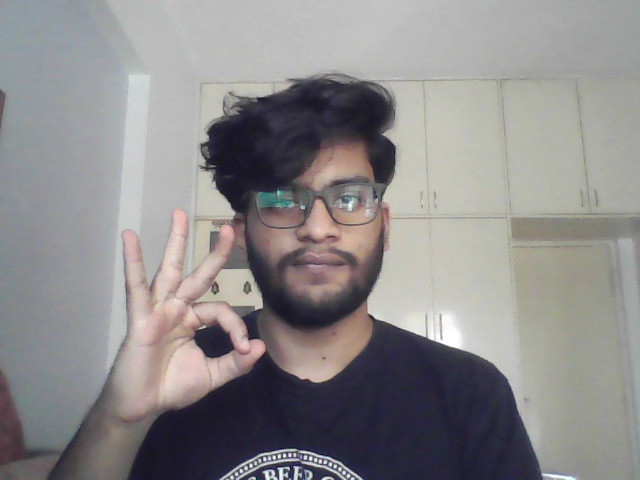Ok: (103, 205, 271, 421)
